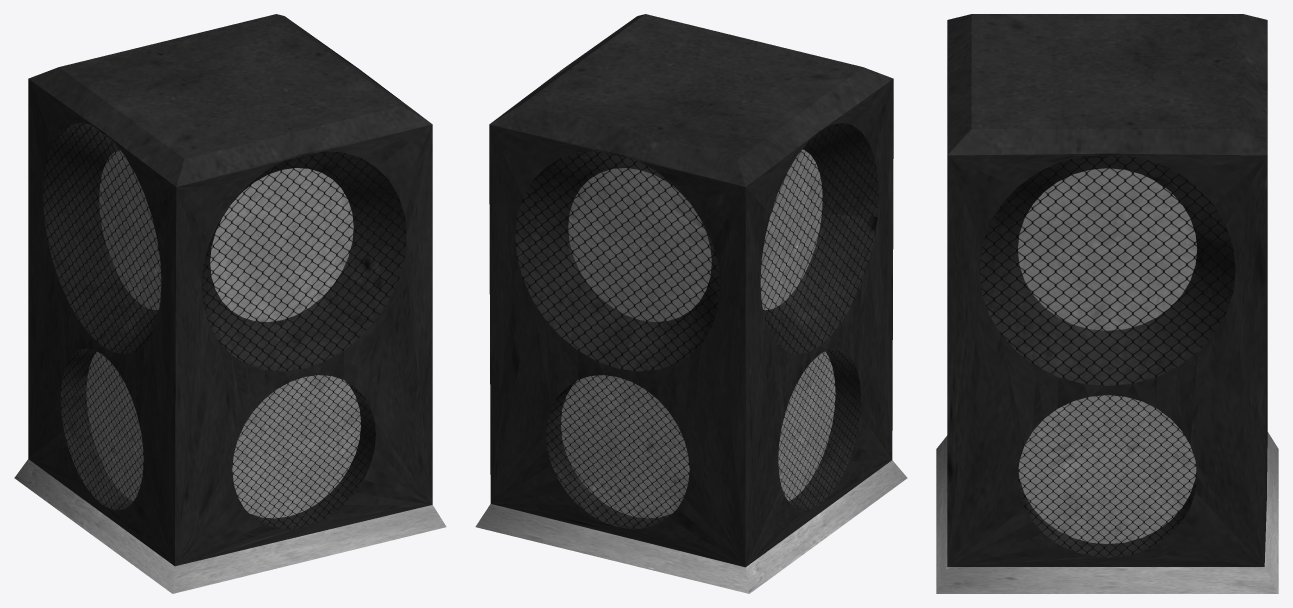
File: boom.gltf
3 views of the same model, side by side, from view 1: azimuth 30°, elevation 25°; view 2: azimuth 150°, elevation 25°; view 3: azimuth 270°, elevation 25° (orthographic). The views are drawn at different scales.
Visible parts, largest first — view 1: Cube.002; view 2: Cube.002; view 3: Cube.002.
Boxes of the visible parts, <box> form: Cube.002: <box>14,14,446,593</box>; Cube.002: <box>475,14,907,593</box>; Cube.002: <box>936,14,1278,593</box>.
Size of the model in its own units: 2.14 by 3.1 by 2.14.
1 material, 1 textured.
